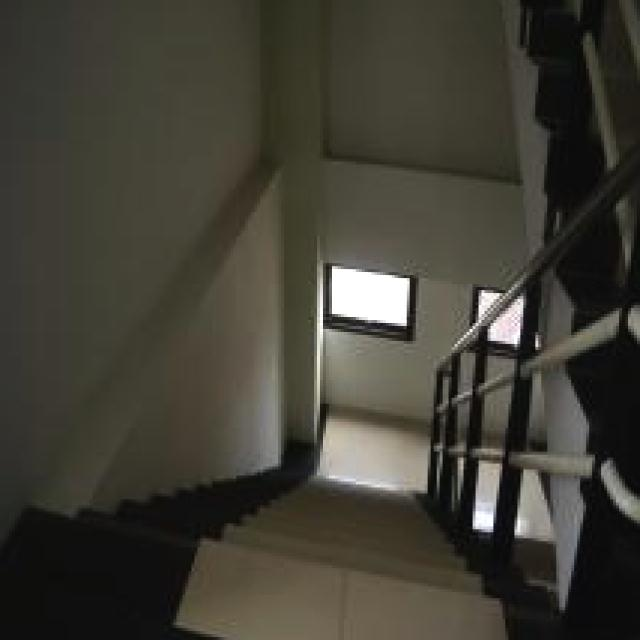downstair: (172, 482, 459, 640)
